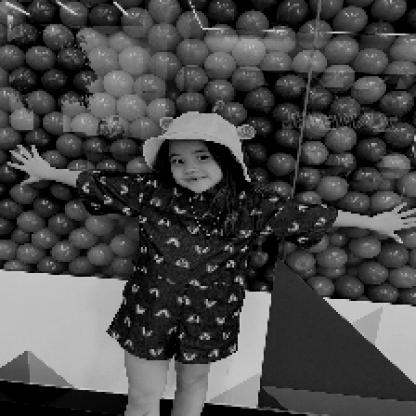child: (5, 113, 416, 416)
